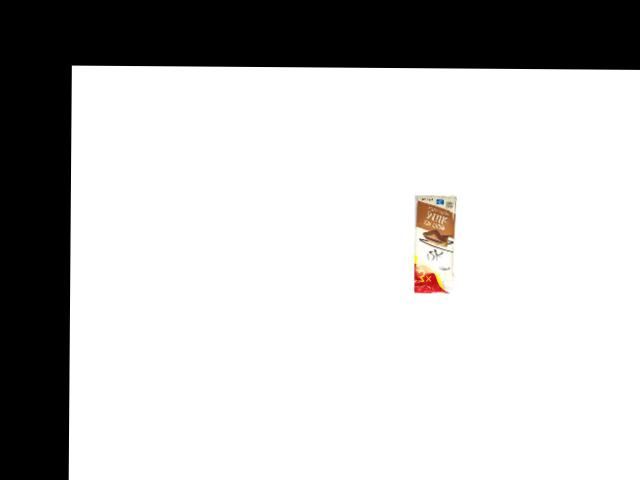chocolate: (410, 197, 458, 295)
